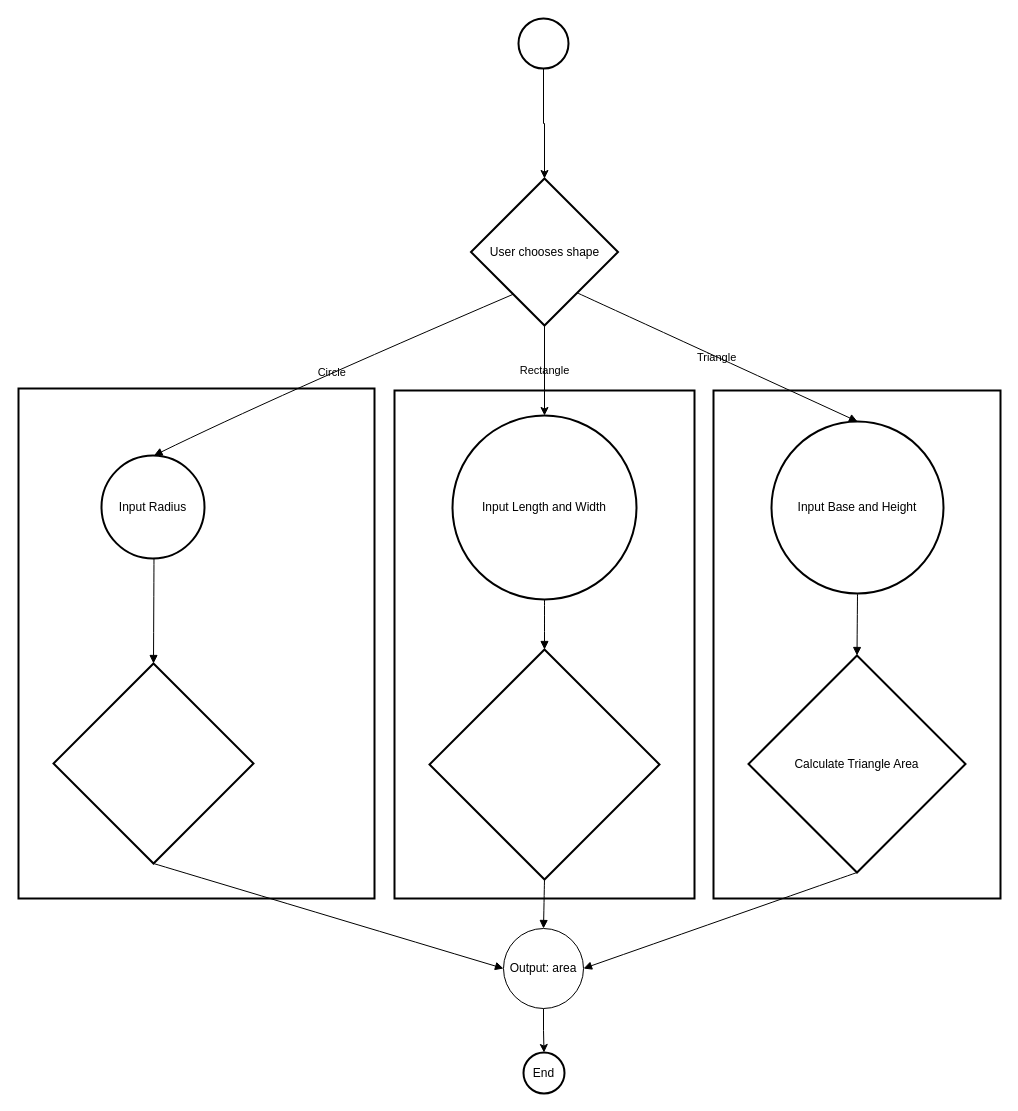
Image size: 1018x1111. Some labels were removed from this diagram. The box of each missing label's shape, as (x1, y1, x2, y2) in pixels:
Calculate Circle Area: (52, 662, 254, 864)
Calculate Rectangle Area: (428, 648, 660, 880)
Start: (517, 17, 569, 69)
